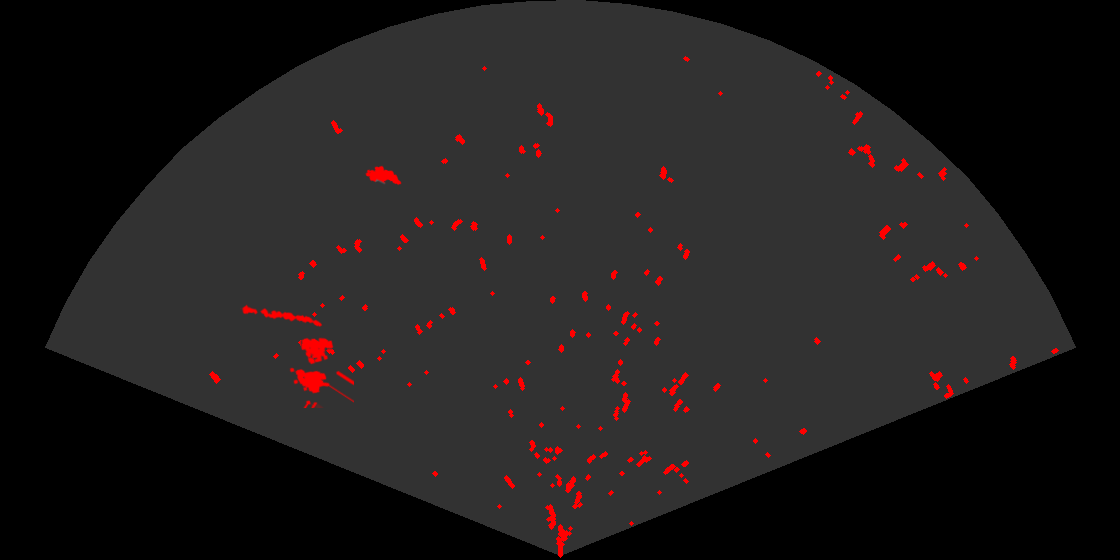AUV: (364, 164, 403, 187)
cage: (288, 336, 354, 408)
chain: (240, 303, 324, 328)
